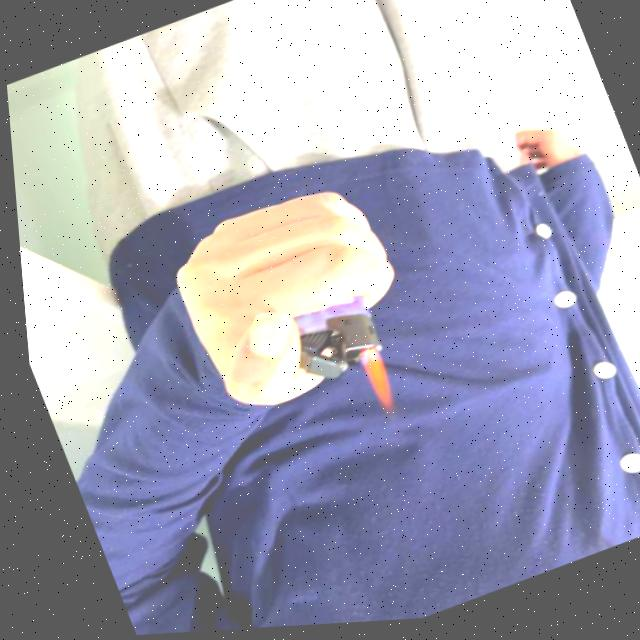Fire: (348, 348, 394, 416)
